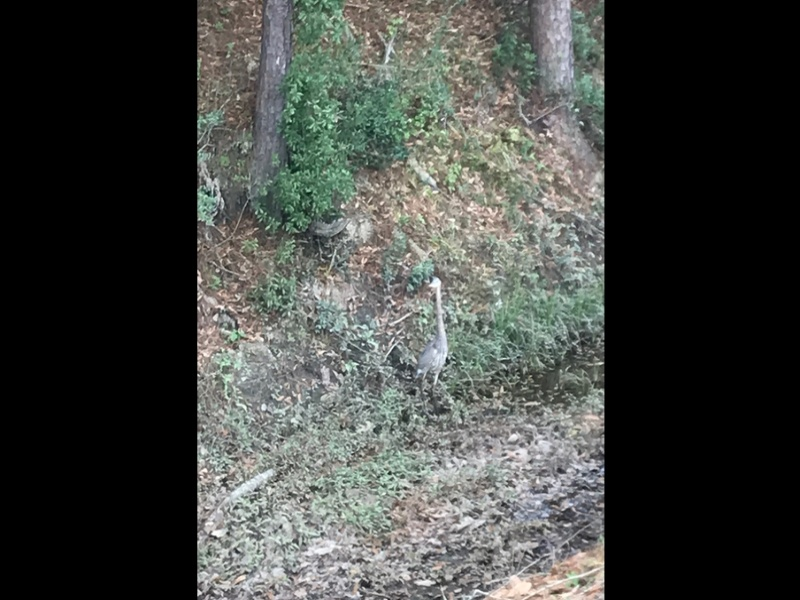heron: (418, 275, 448, 385)
